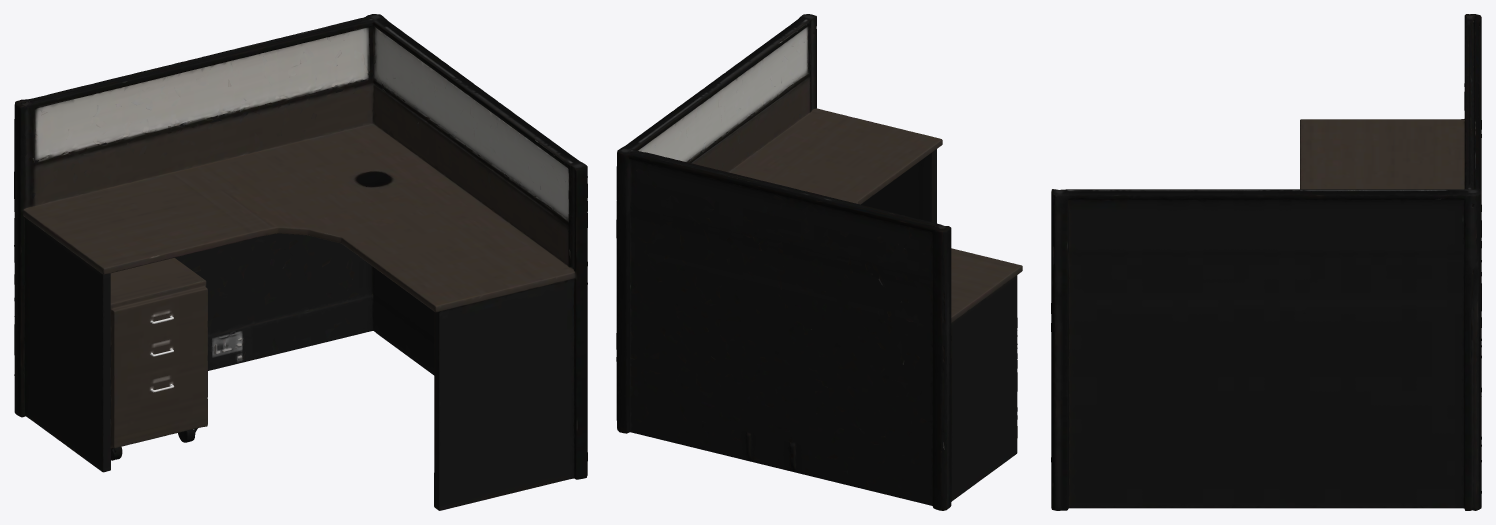
File: 08_屏风转角办公位.glb
3 renders of one model, left to right at view 1: azimuth 30°, elevation 25°; view 2: azimuth 150°, elevation 25°; view 3: azimuth 270°, elevation 25°, orthographic. The views are drawn at different scales.
Parts seen in each view (by area): view 1: world; view 2: world; view 3: world.
Boxes of the visible parts, bbox=[...] form: world: bbox=[14, 14, 587, 510]; world: bbox=[616, 14, 1022, 510]; world: bbox=[1051, 14, 1481, 510].
Size of the model in its own units: 1 by 0.8155 by 1.
Materials: 1 (1 with a texture image).
